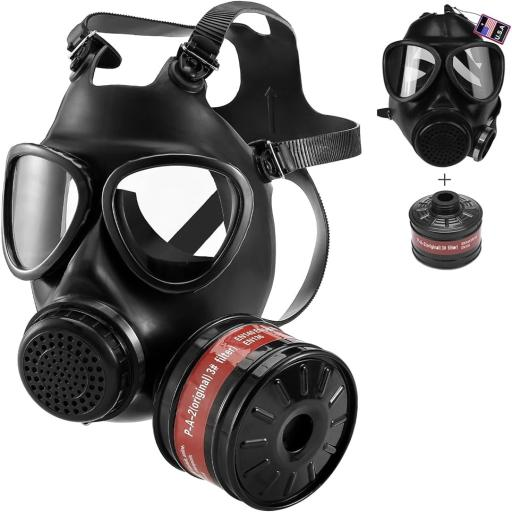mask: (0, 129, 360, 507)
